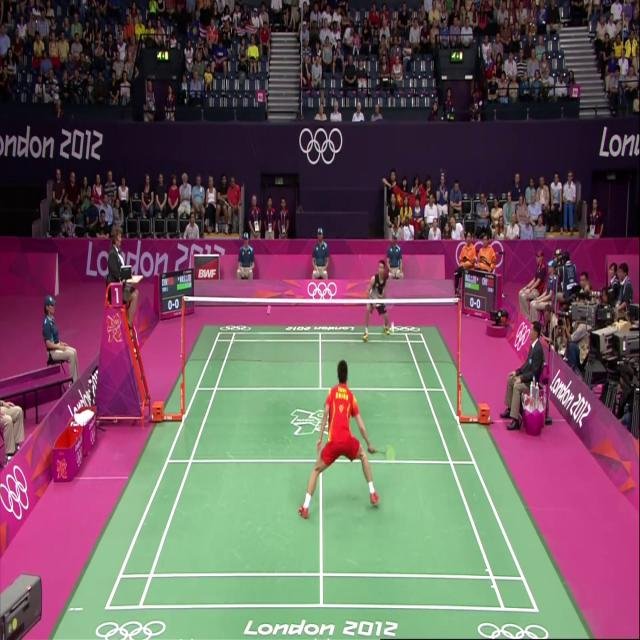Net: (180, 294, 461, 369)
Player1: (294, 329, 382, 522)
Player2: (358, 244, 394, 355)
Shuttlecock: (388, 316, 398, 335)
